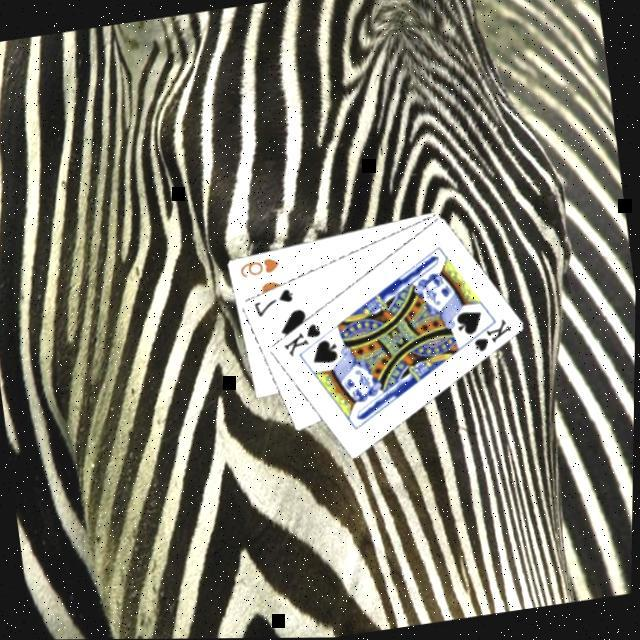6H: (237, 252, 286, 280)
7S: (250, 284, 300, 320)
KS: (462, 314, 520, 356), (280, 318, 329, 360)
